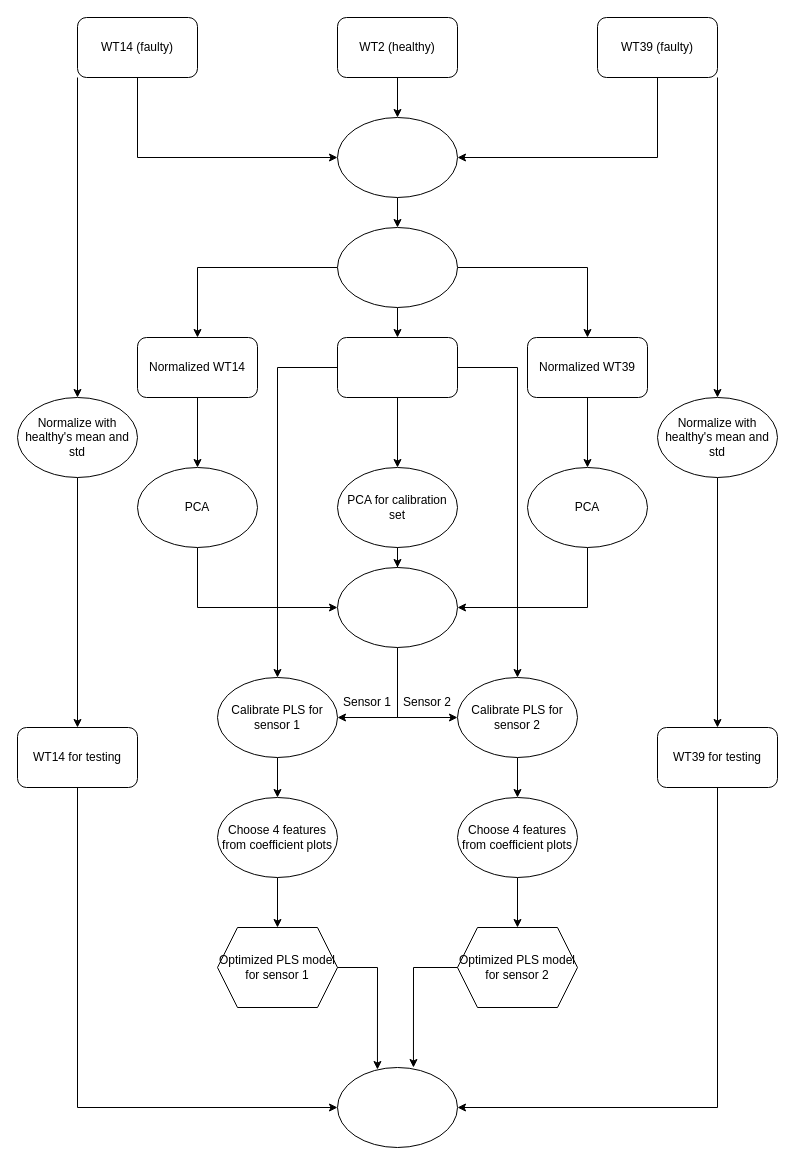
The diagram is 795 pixels wide and 1165 high, and some of its shapes have lost their labels. Here are the shapes that lost their labels. From the top down, the centre of each, then its label:
At pixel 397 157: "Split 70/20/10 calibration, test, validation".
At pixel 397 267: "Normalize".
At pixel 397 367: "Normalized healthy".
At pixel 397 607: "Compare loadings".
At pixel 397 1107: "Testing for faulty turbines".
